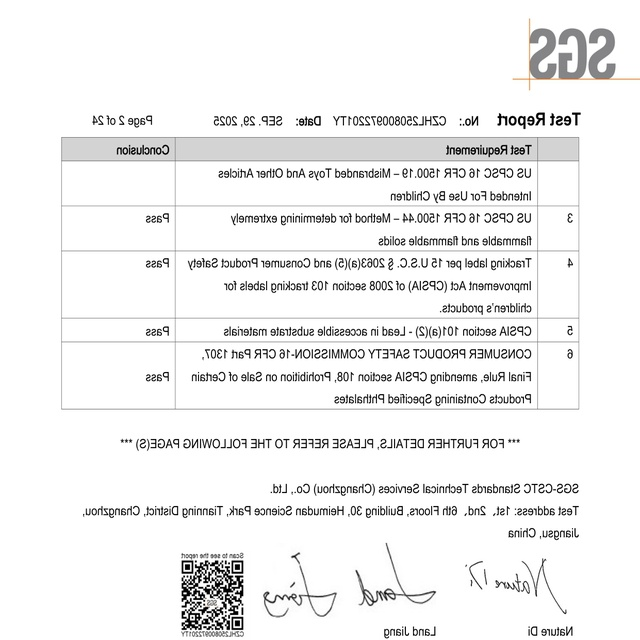sgs: (529, 27, 616, 79)
